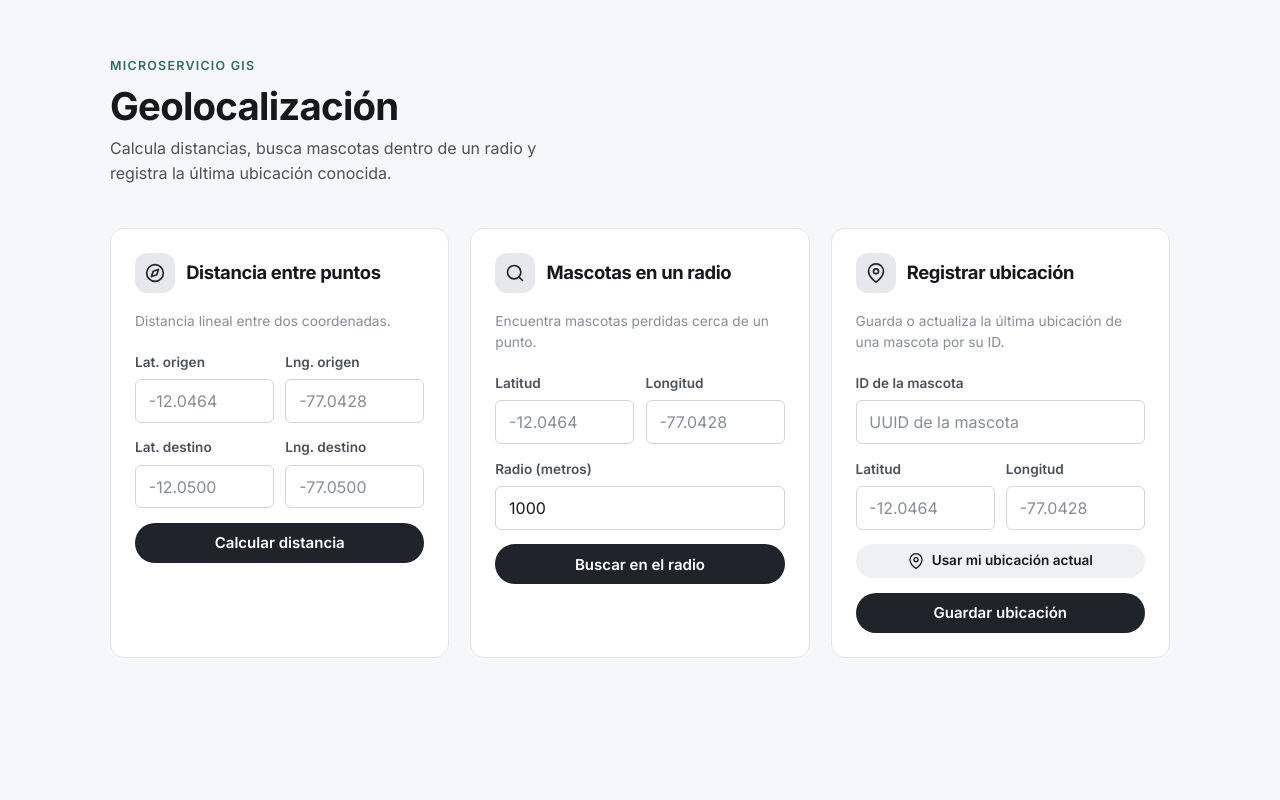
Test: GeolocalizacionPage › calcula distancia entre puntos
Type "-33.4489" into the field labelled "Lat. origen".
click(205, 401); type("-33.4489")  # box [135,379,274,423]
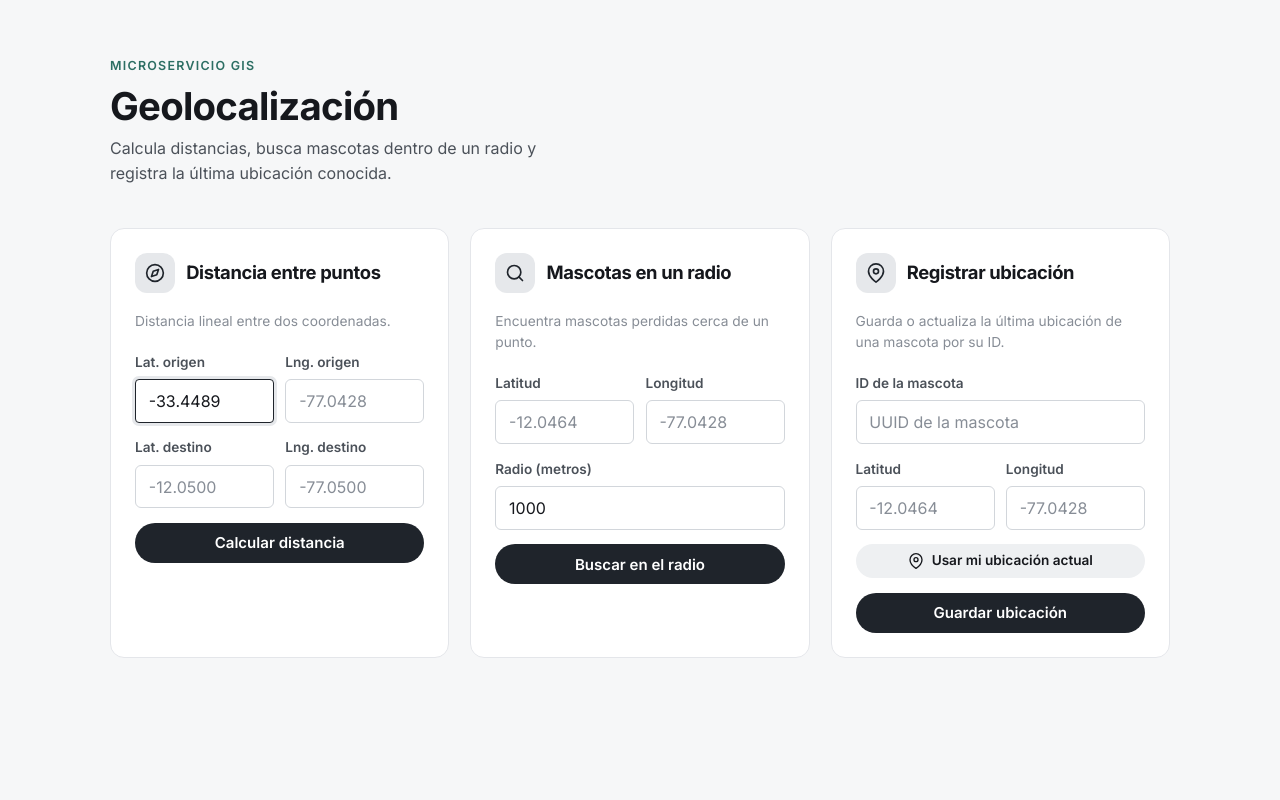
Type "-70.6693" into the field labelled "Lng. origen".
click(355, 401); type("-70.6693")  # box [285,379,424,423]
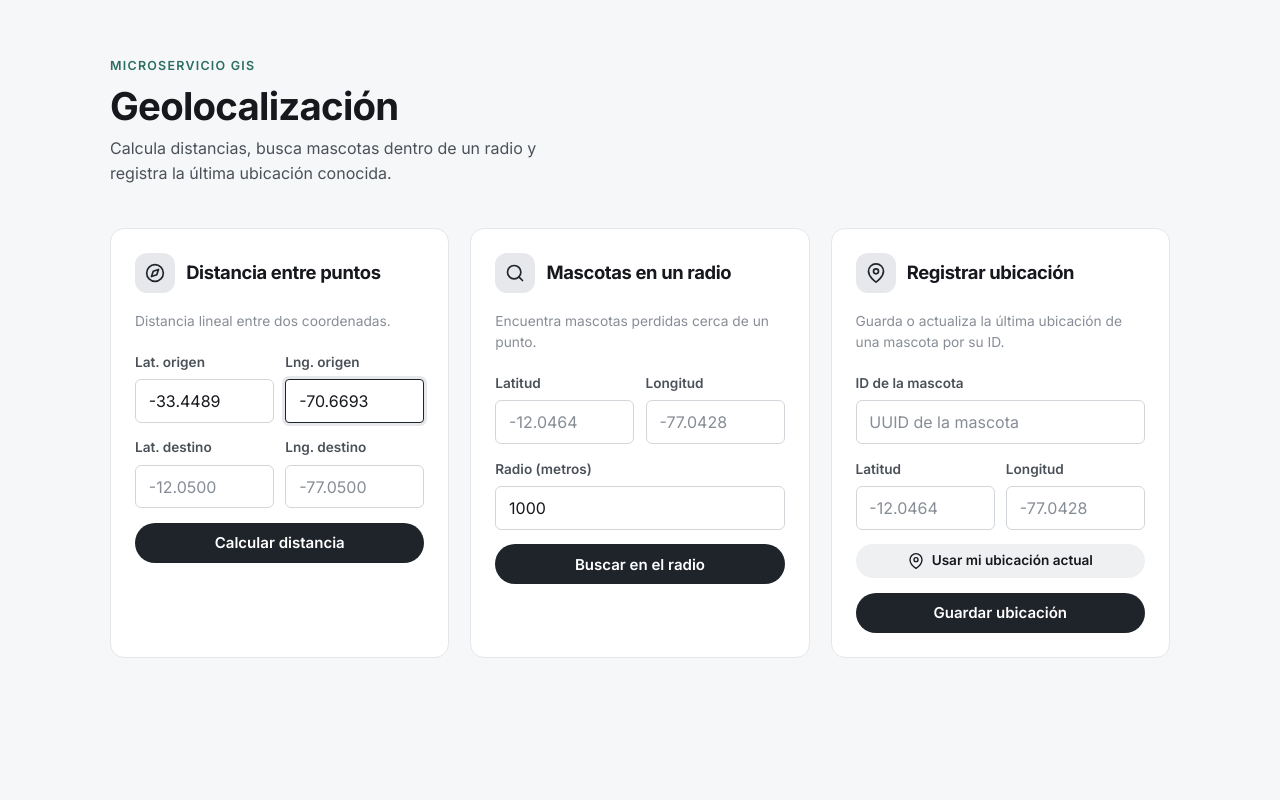
Type "-33.4569" into the field labelled "Lat. destino".
click(205, 487); type("-33.4569")  # box [135,465,274,508]
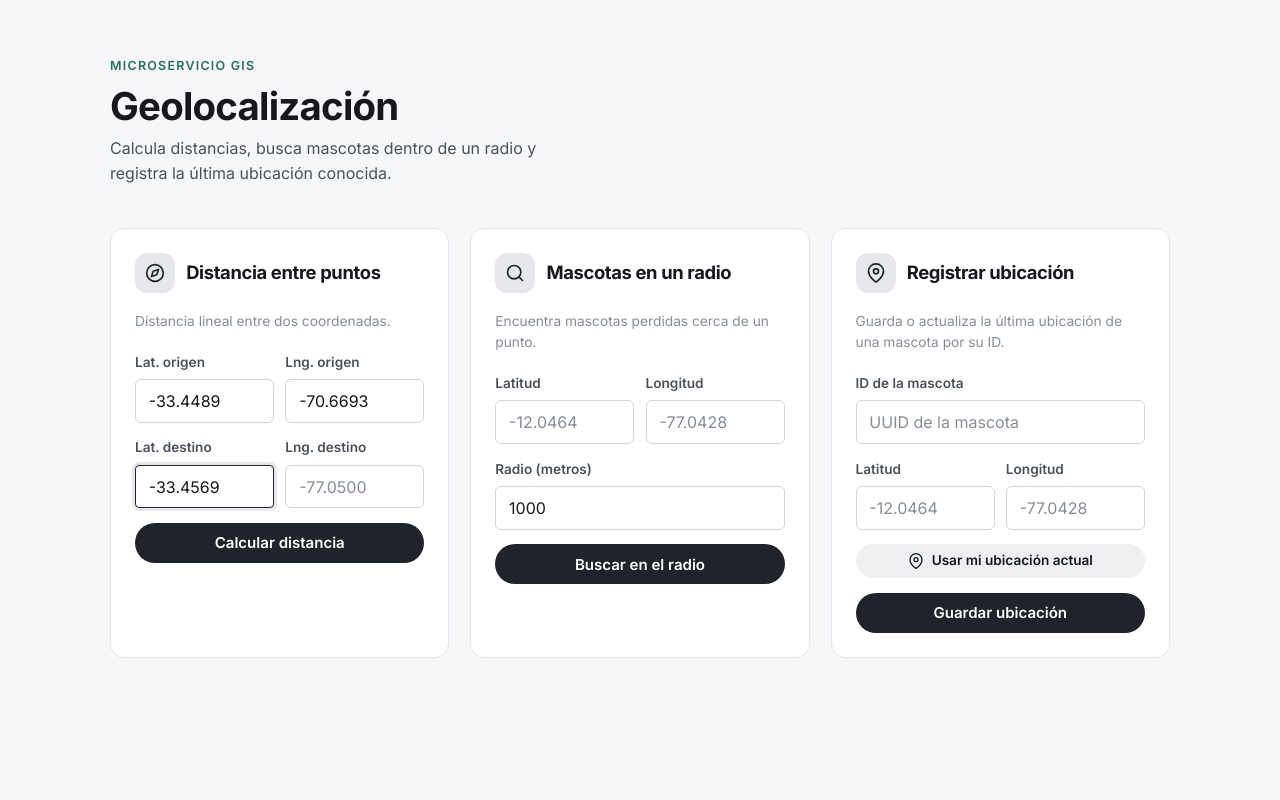
Type "-70.6483" into the field labelled "Lng. destino".
click(355, 487); type("-70.6483")  # box [285,465,424,508]
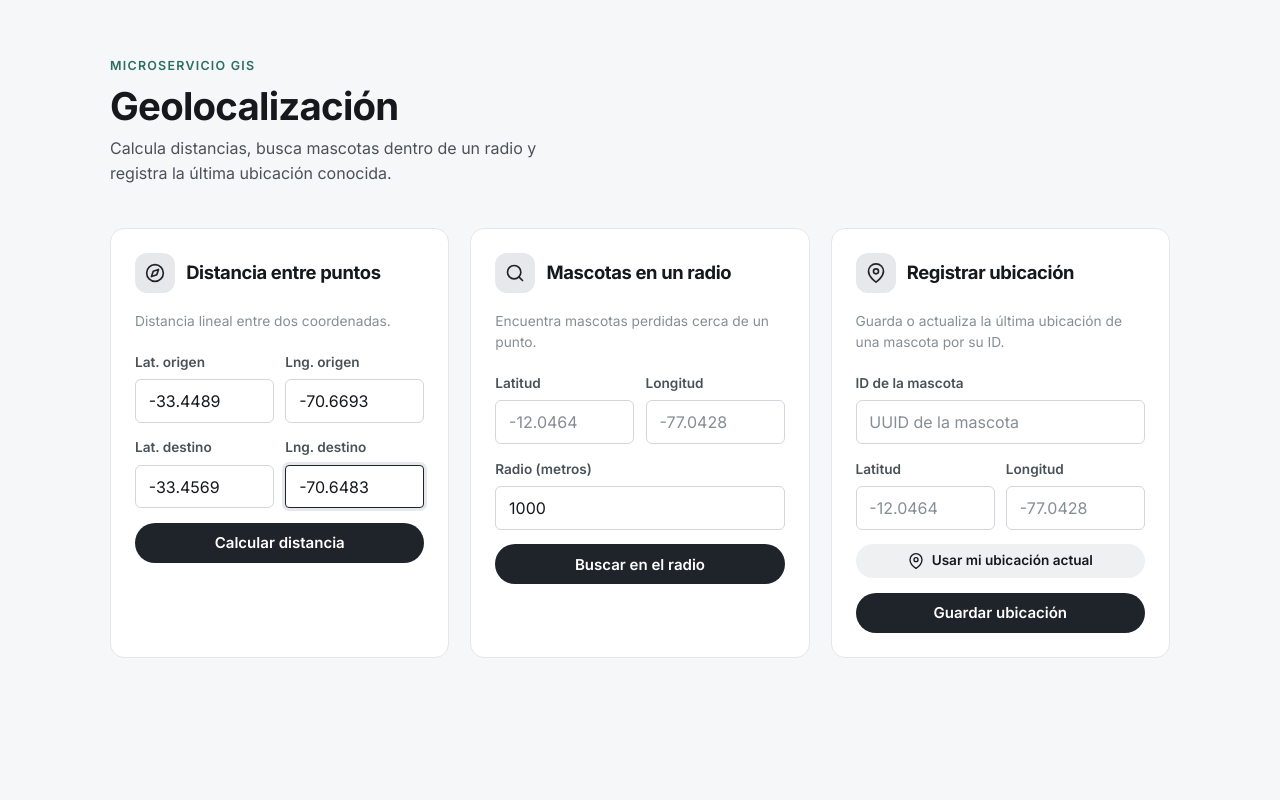
Click the button "Calcular distancia".
click(280, 543)  # box [135,523,424,563]
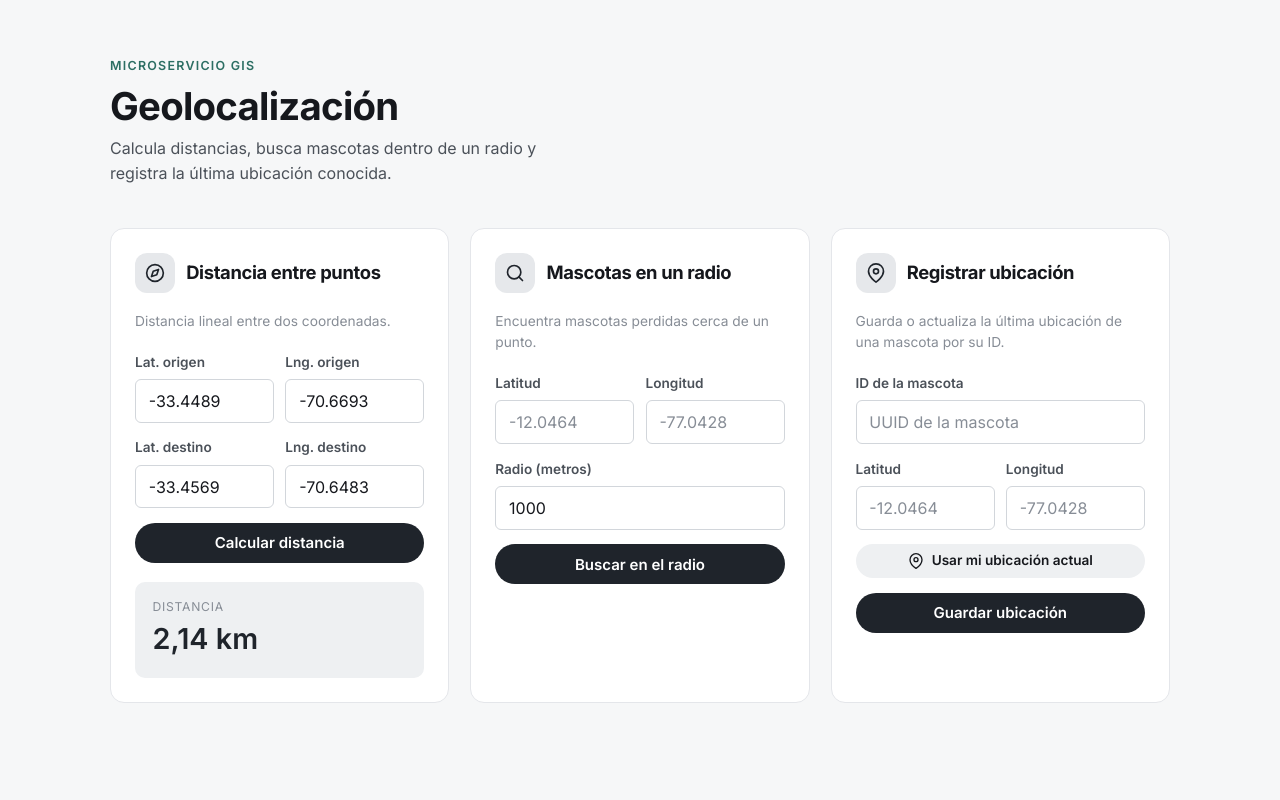
Result: the text "2,14 km" is shown at [153,621,258,656]
